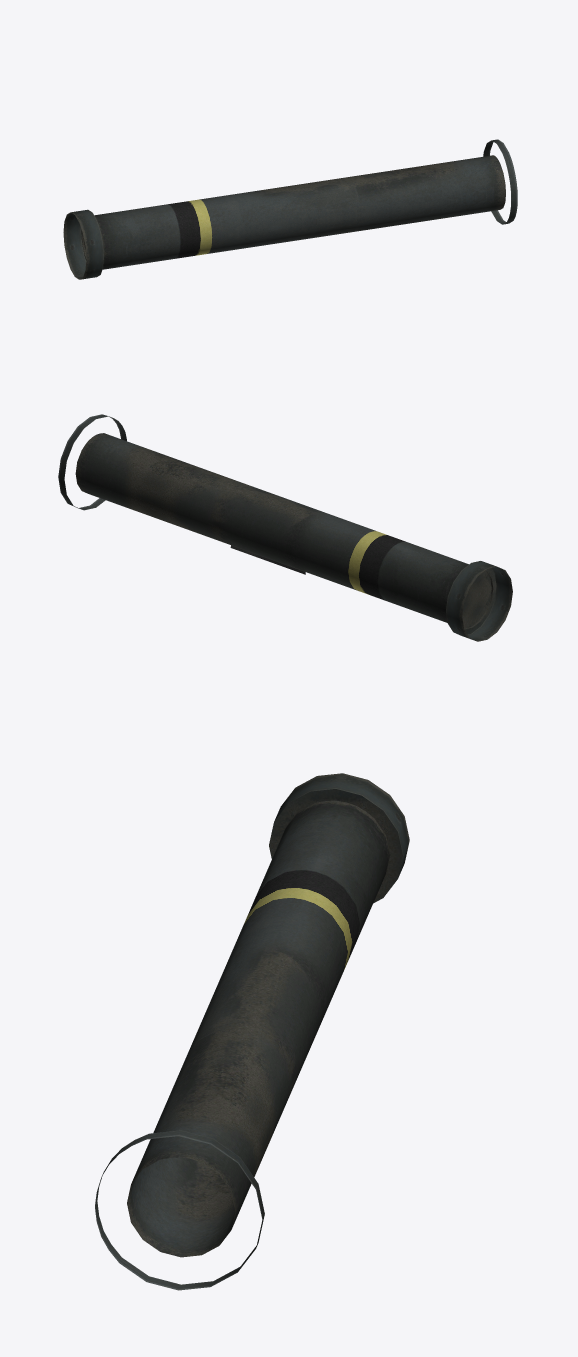
File: viewmodel_javelin_LOD0.obj
3 views of the same model, one above another, from view 1: azimuth 30°, elevation 25°; view 2: azimuth 150°, elevation 25°; view 3: azimuth 270°, elevation 25° (orthographic). The views are drawn at different scales.
Parts seen in each view (by area): view 1: mtl_weapon_javelin; view 2: mtl_weapon_javelin; view 3: mtl_weapon_javelin.
Part boxes in pixels (left/top/right/bottom): mtl_weapon_javelin: left=63, top=139, right=517, bottom=279; mtl_weapon_javelin: left=58, top=414, right=512, bottom=641; mtl_weapon_javelin: left=95, top=773, right=409, bottom=1290.
Size of the model in its own units: 145 by 52.76 by 60.57.
Materials: 1 (1 with a texture image).
